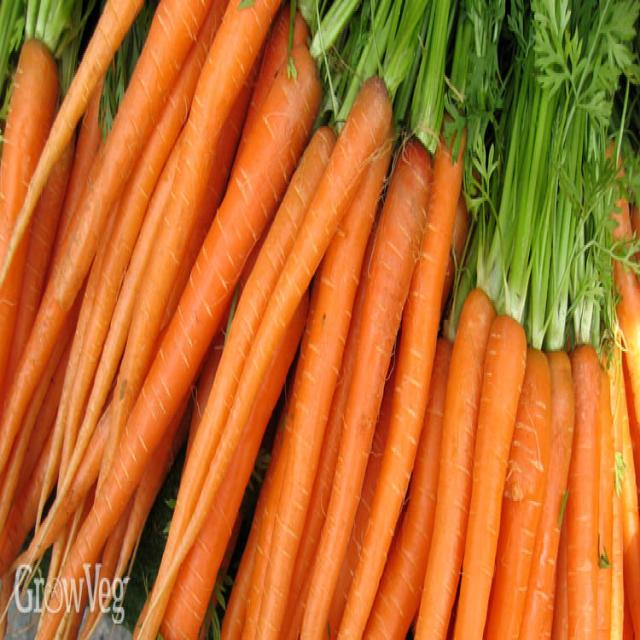Fresh_Carrot: (133, 0, 454, 640), (453, 0, 593, 640), (450, 20, 556, 640), (569, 211, 598, 640)
